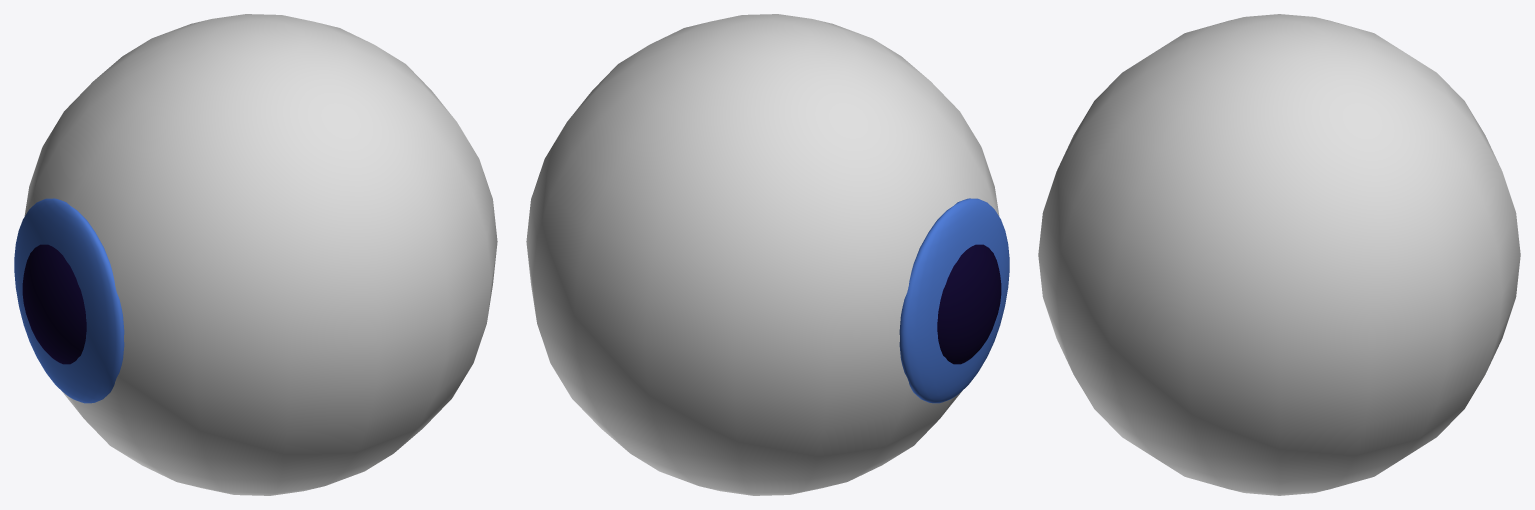
The model's file is cthulhu.fbx.
The picture shows the model from 3 angles, left to right: view 1: azimuth 30°, elevation 25°; view 2: azimuth 150°, elevation 25°; view 3: azimuth 270°, elevation 25°; orthographic projection.
Parts seen in each view (by area): view 1: Sphere, SurfSphere.001, SurfSphere; view 2: Sphere, SurfSphere.001, SurfSphere; view 3: Sphere.
Boxes of the visible parts, left/top/right/bottom form: Sphere: left=24, top=14, right=497, bottom=495; SurfSphere.001: left=14, top=198, right=124, bottom=403; SurfSphere: left=22, top=244, right=86, bottom=364; Sphere: left=526, top=14, right=999, bottom=495; SurfSphere.001: left=899, top=198, right=1009, bottom=403; SurfSphere: left=937, top=244, right=1001, bottom=364; Sphere: left=1038, top=14, right=1520, bottom=495.
Bounding box in the file's own units: 11.05 × 10.76 × 10.76.
